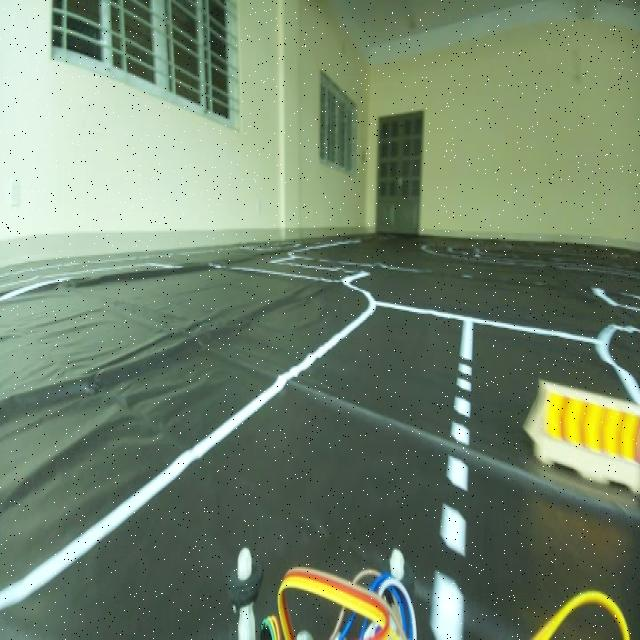roadblock: (522, 359, 639, 517)
